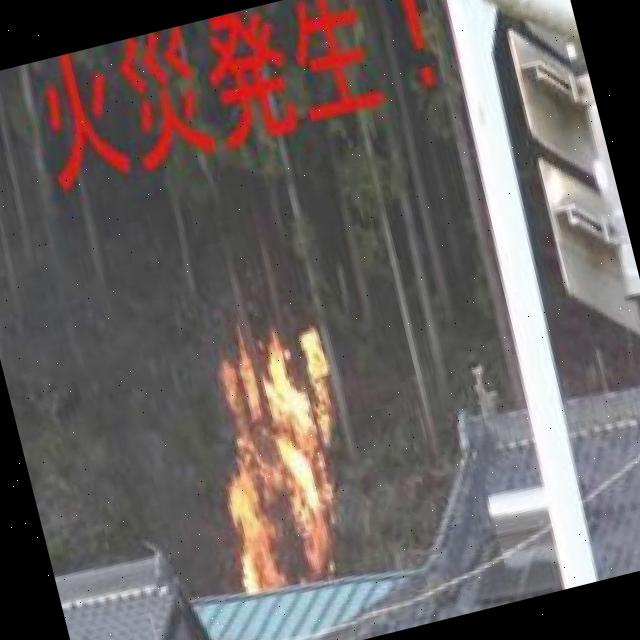fire: (176, 318, 394, 611)
